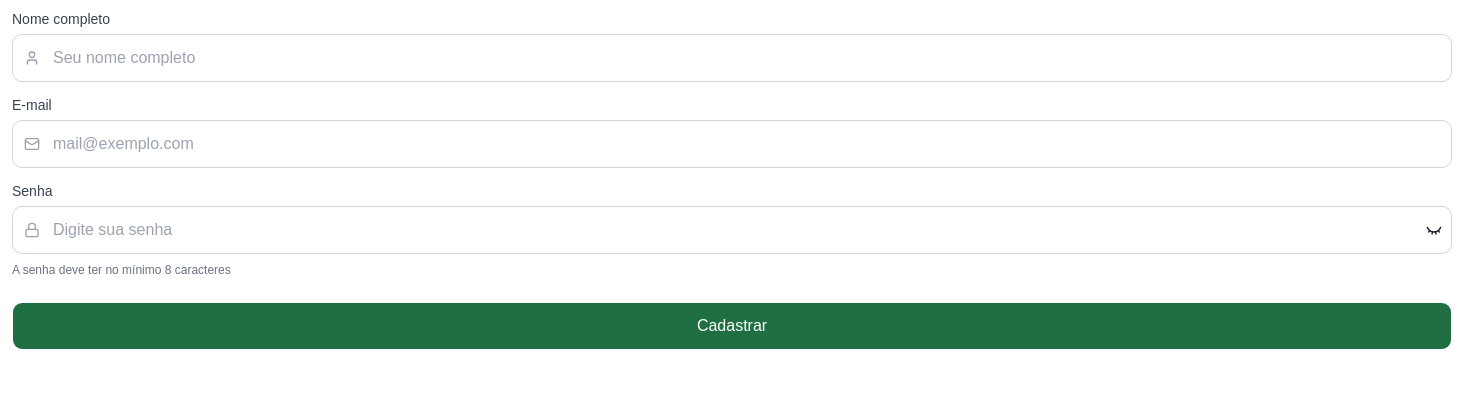
RegisterForm › shows "Informe um e-mail válido" for an invalid email
This screenshot has width=1464, height=398.
Type "Ana Silva" into the field labelled "Nome completo". click: (732, 58)
box: [12,34,1452,82]
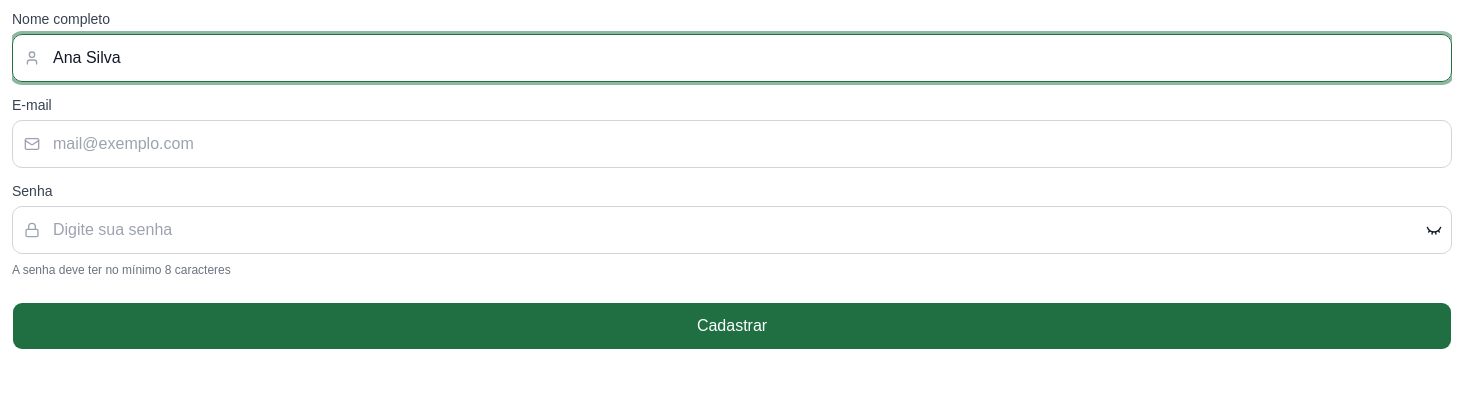
Type "not-an-email" into the field labelled "E-mail". click: (732, 144)
box: [12,120,1452,168]
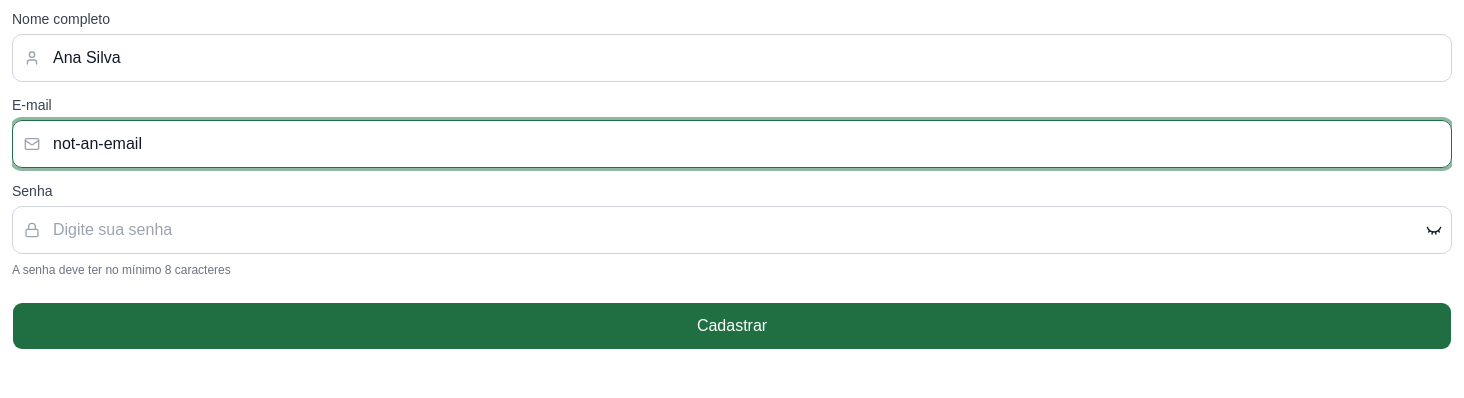
Click the button "Cadastrar". click: (732, 326)
box: [12,302,1452,350]
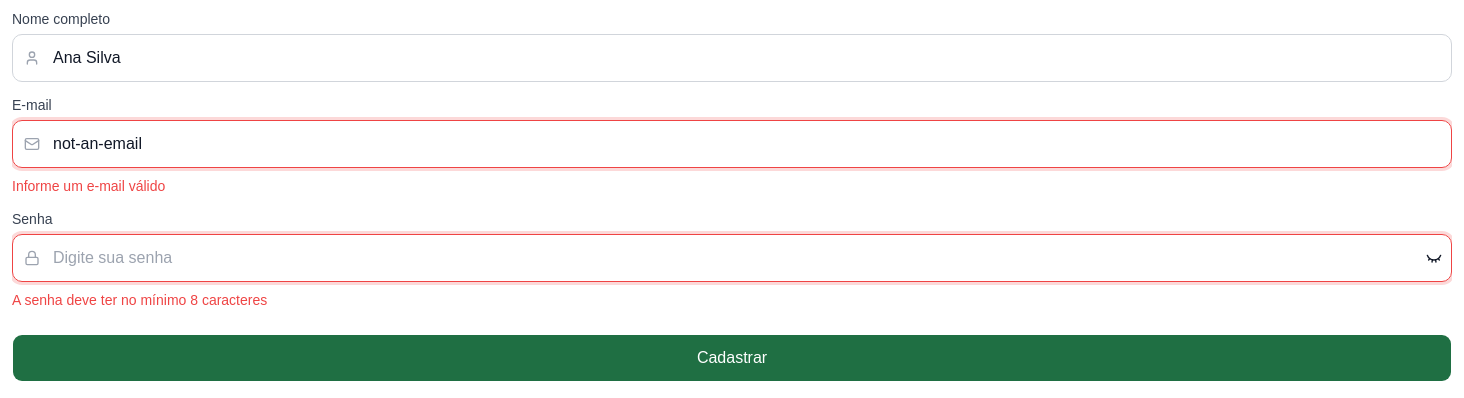
Expected: the text "Informe um e-mail válido" is shown, [12,178,165,194]
